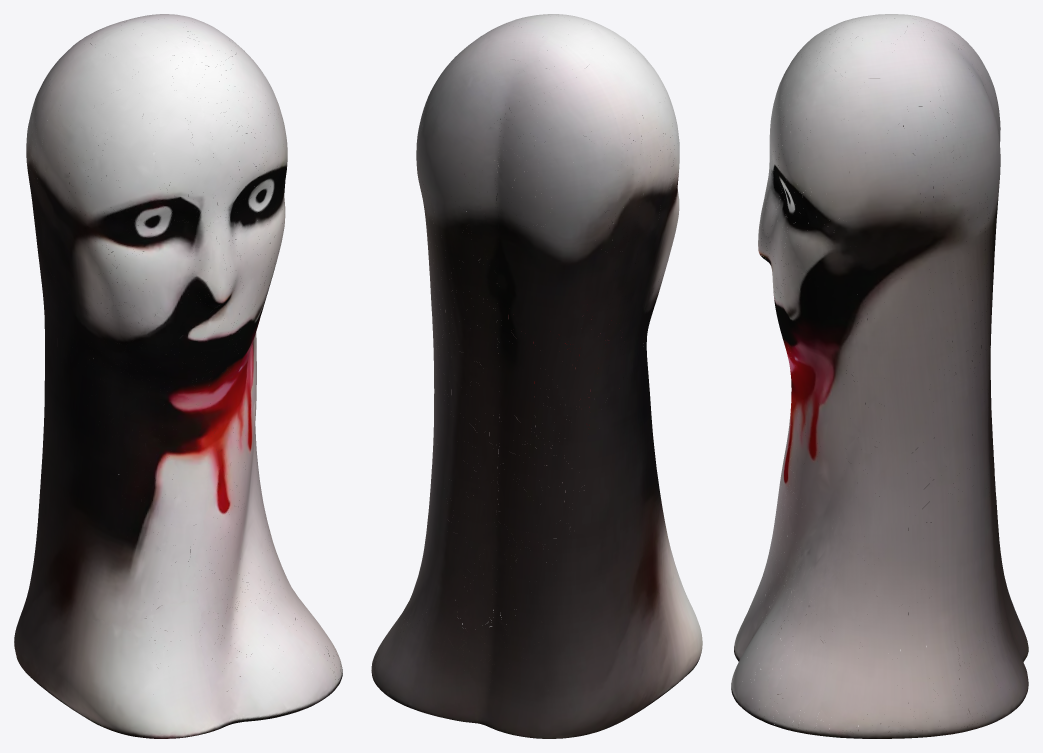
Rendered from white_ghost-like_figure_with_bloodstain.glb.
3 renders of one model, left to right at view 1: azimuth 30°, elevation 25°; view 2: azimuth 150°, elevation 25°; view 3: azimuth 270°, elevation 25°, orthographic.
Visible parts, largest first — view 1: Object_3, Object_4, Object_5; view 2: Object_3, Object_5, Object_4; view 3: Object_4, Object_5, Object_3.
Boxes of the visible parts, <box> form: Object_3: <box>14,14,342,738</box>; Object_4: <box>26,24,342,695</box>; Object_5: <box>26,14,338,675</box>; Object_3: <box>371,14,702,738</box>; Object_5: <box>375,14,679,678</box>; Object_4: <box>372,18,679,691</box>; Object_4: <box>738,14,1011,737</box>; Object_5: <box>754,14,1011,731</box>; Object_3: <box>731,18,1028,738</box>.
Size of the model in its own units: 0.7265 by 1.71 by 0.7212.
Materials: 1 (1 with a texture image).
